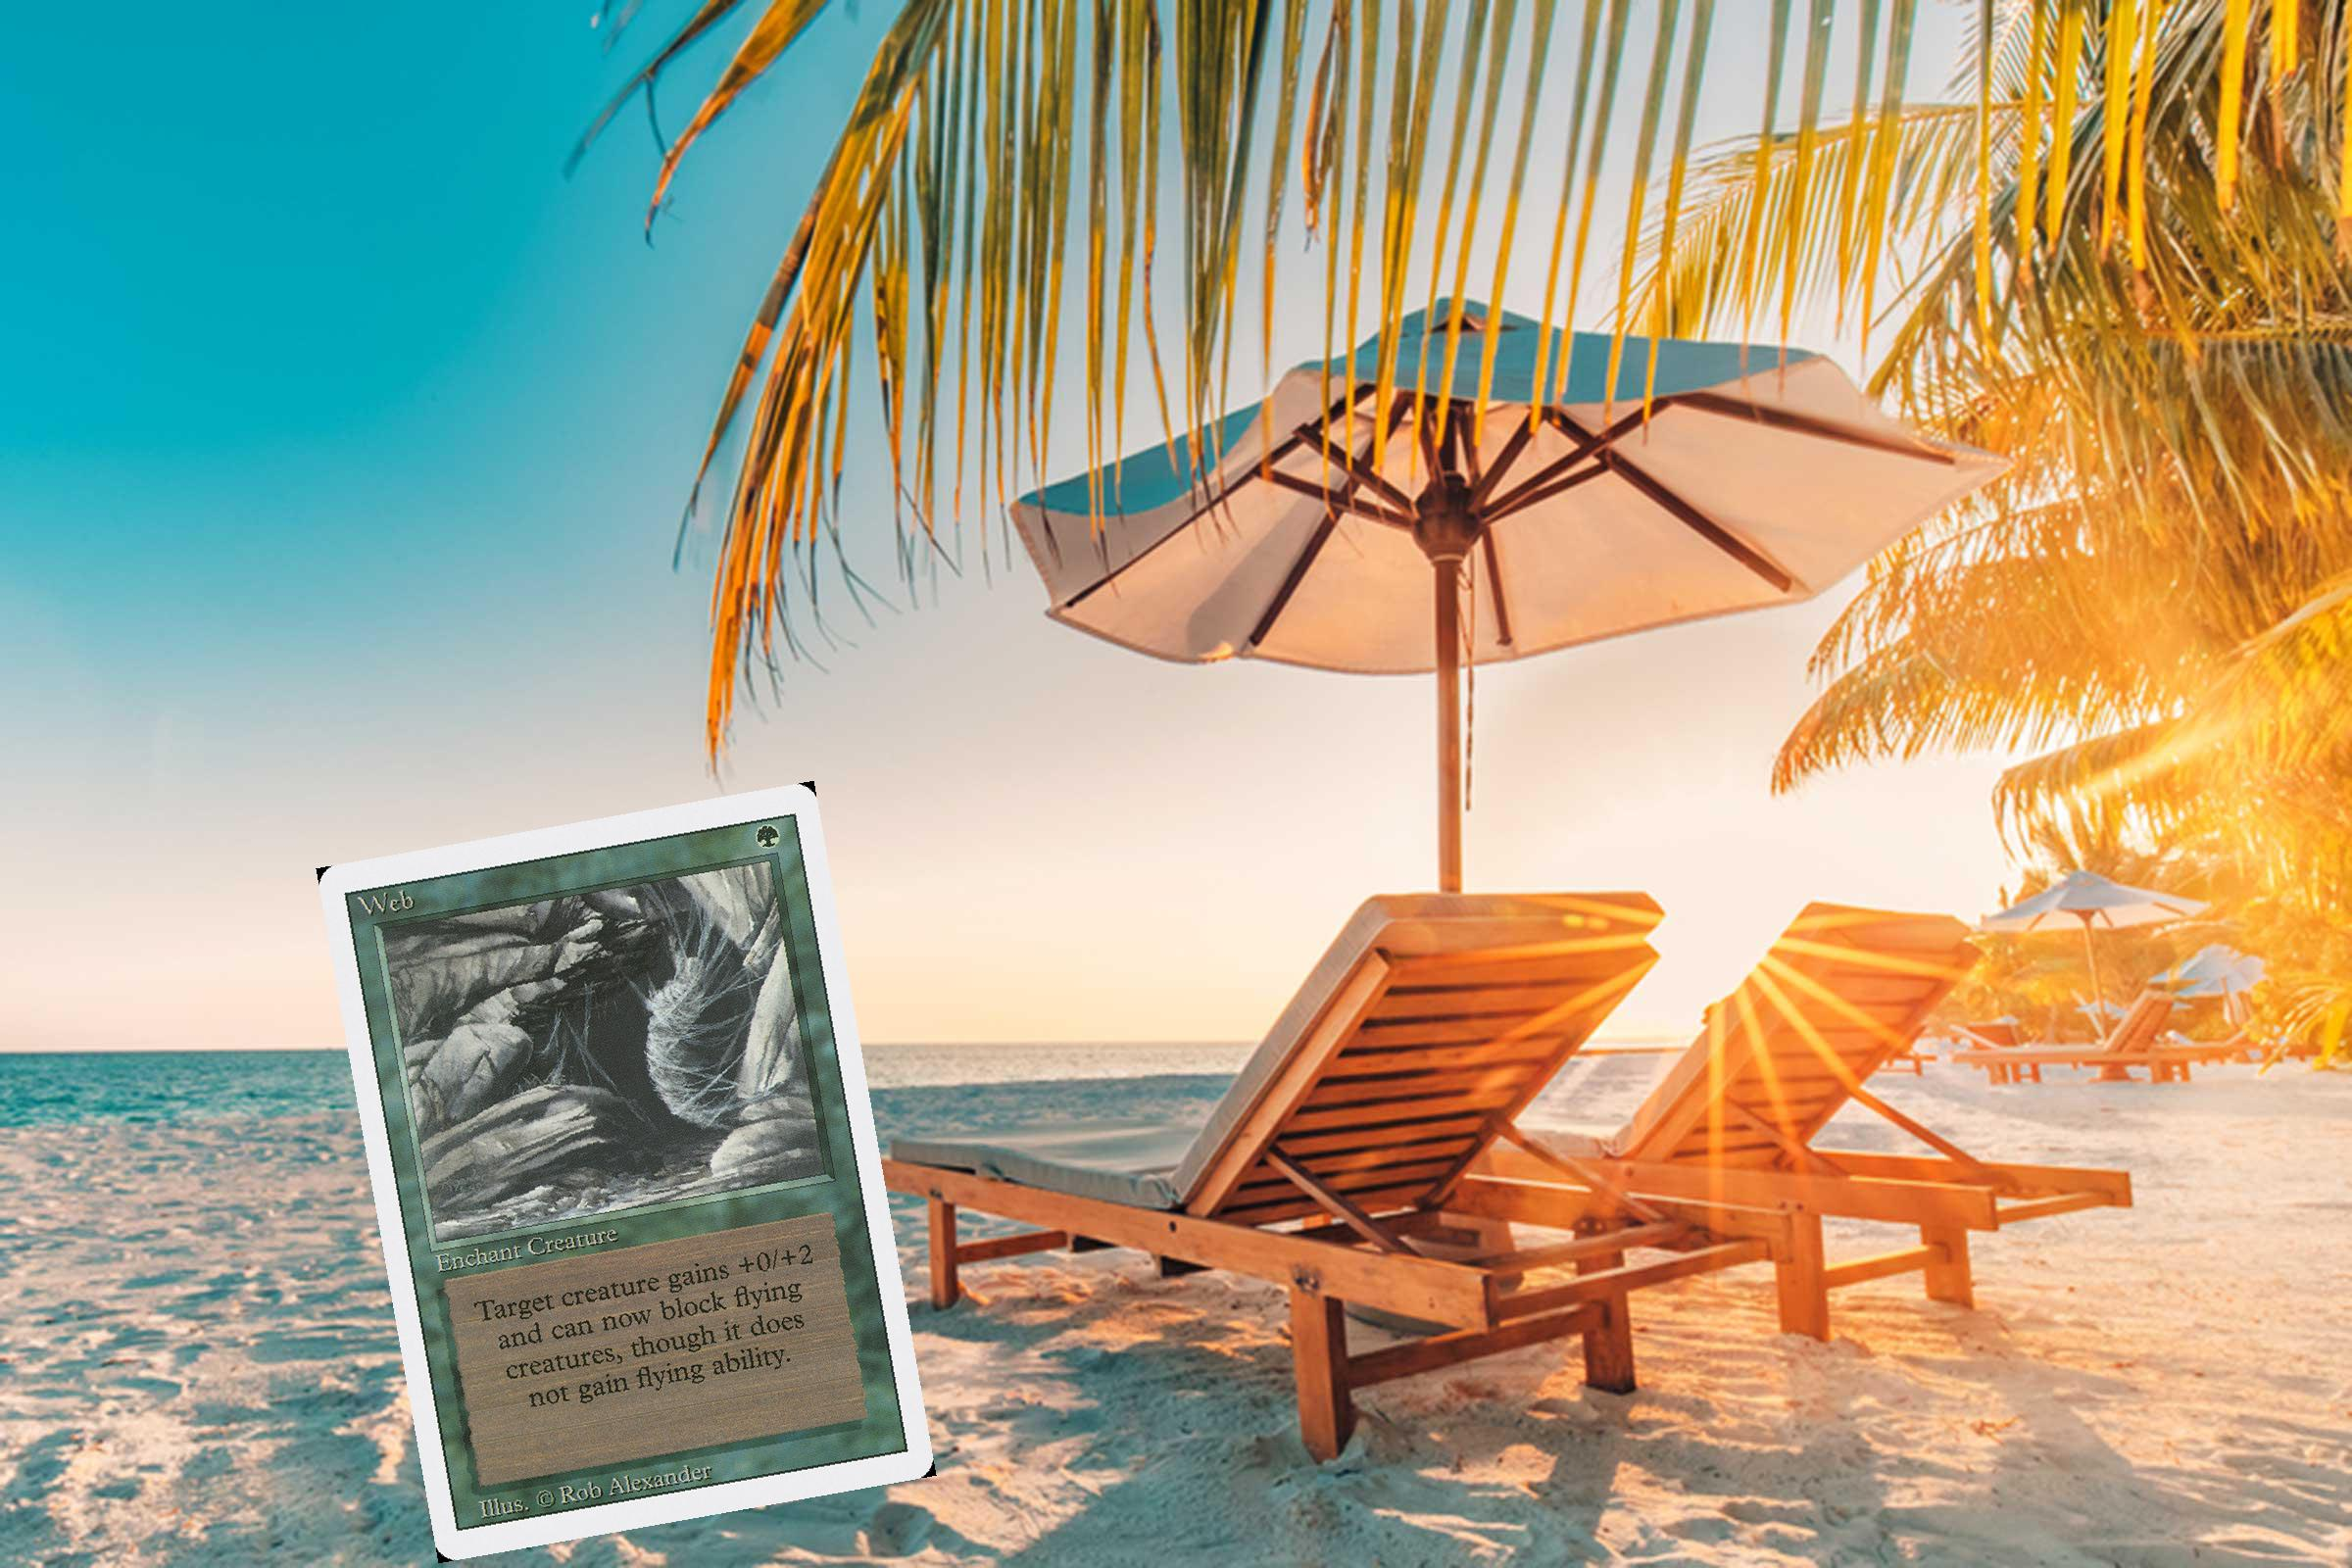mtgCard: (315, 780, 936, 1564)
